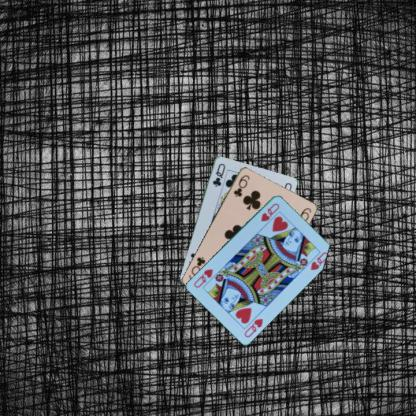6c: (230, 172, 250, 198)
Qc: (210, 160, 226, 188)
Qh: (258, 200, 280, 223), (242, 316, 264, 338)
